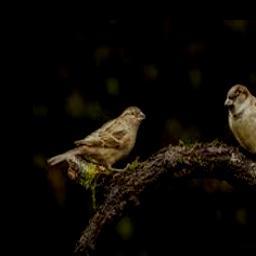Sparrow: (48, 103, 145, 170), (223, 84, 256, 167)
